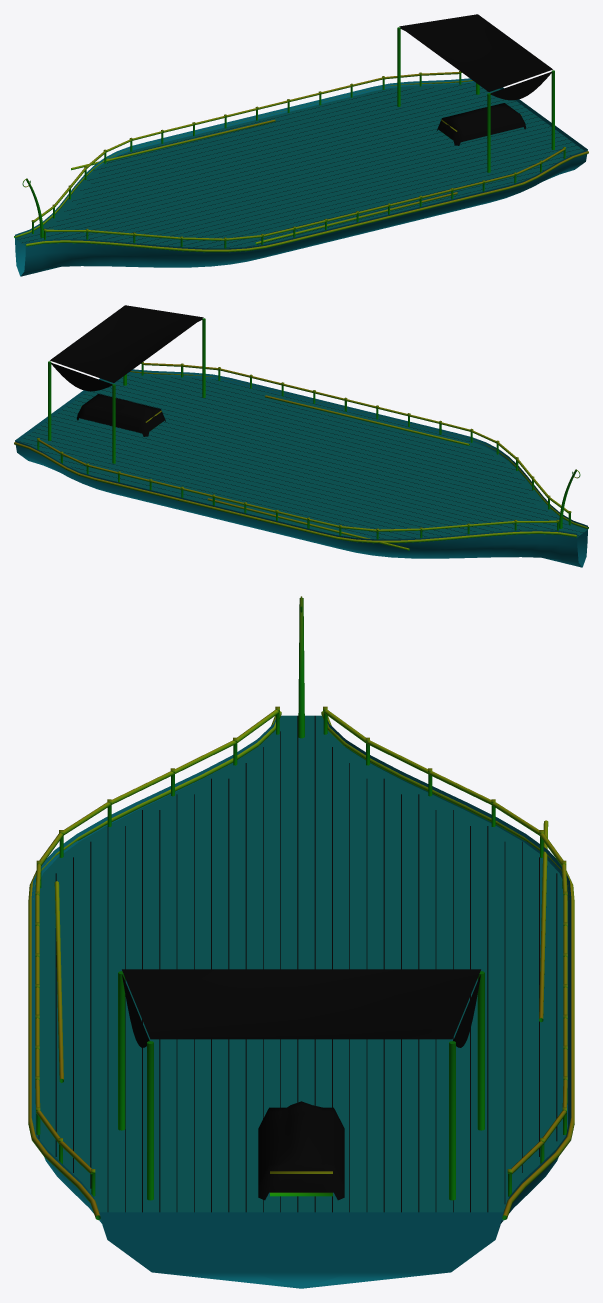
Rendered from bridal_barge.glb.
3 renders of one model, top to bottom at view 1: azimuth 30°, elevation 25°; view 2: azimuth 150°, elevation 25°; view 3: azimuth 270°, elevation 25°, orthographic. The views are drawn at different scales.
Parts seen in each view (by area): view 1: bridal_barge; view 2: bridal_barge; view 3: bridal_barge.
Part boxes in pixels (left/top/right/bottom): bridal_barge: left=14, top=14, right=588, bottom=276; bridal_barge: left=14, top=305, right=588, bottom=567; bridal_barge: left=28, top=596, right=574, bottom=1288.
Size of what is drawn, in the model's own units: 16.61 by 3.5 by 7.59.
